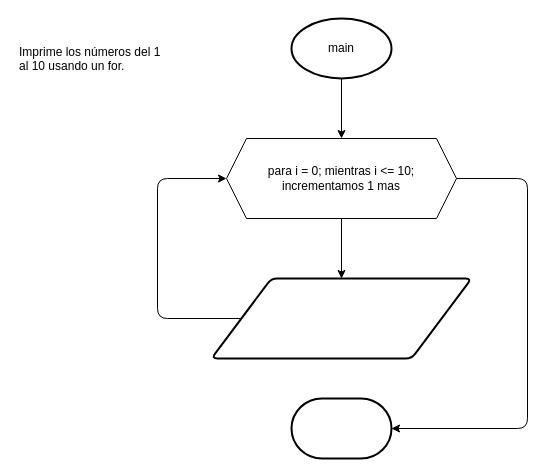
Image size: 553x476. Some labels were removed from this diagram. The shapes that lost their labels are listed below. From the top down, each one's centre as x and y in pixels, then its label:
At point (341, 318): "por cada iteracion haremos una impresion por consola de la variable i".
At point (341, 428): "fin".
